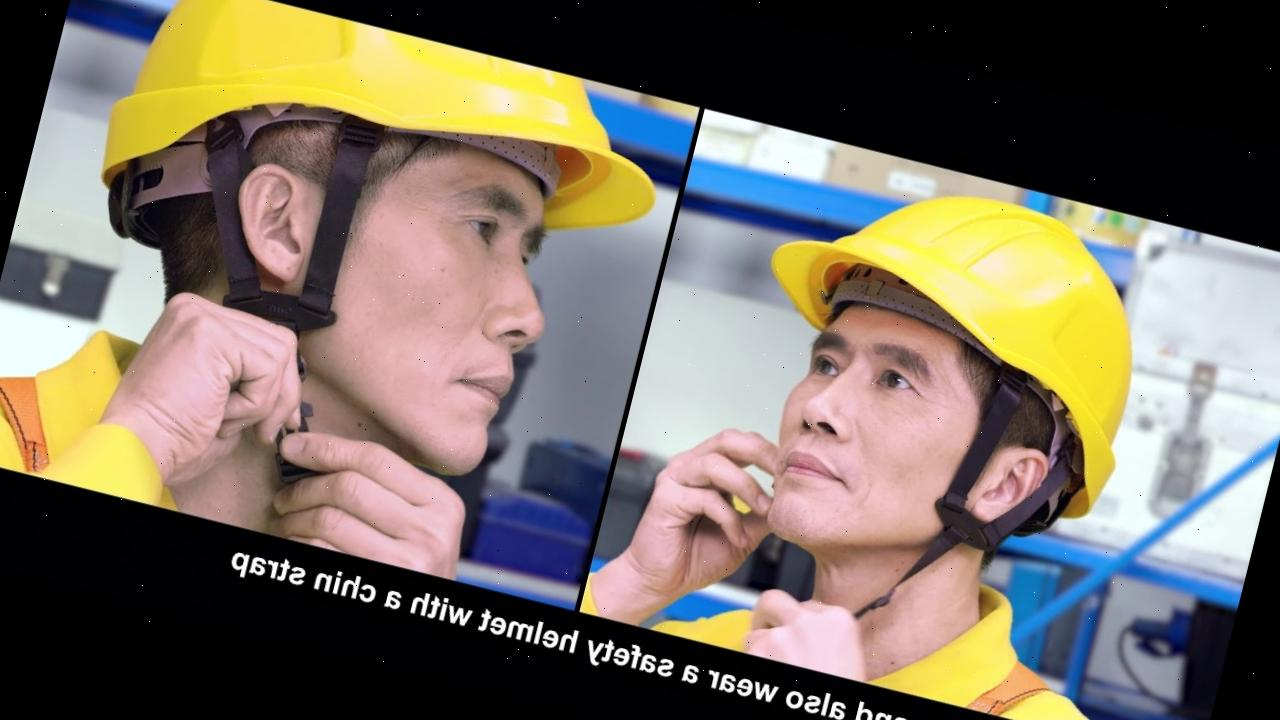helmet: (91, 0, 688, 314), (727, 150, 1173, 524)
